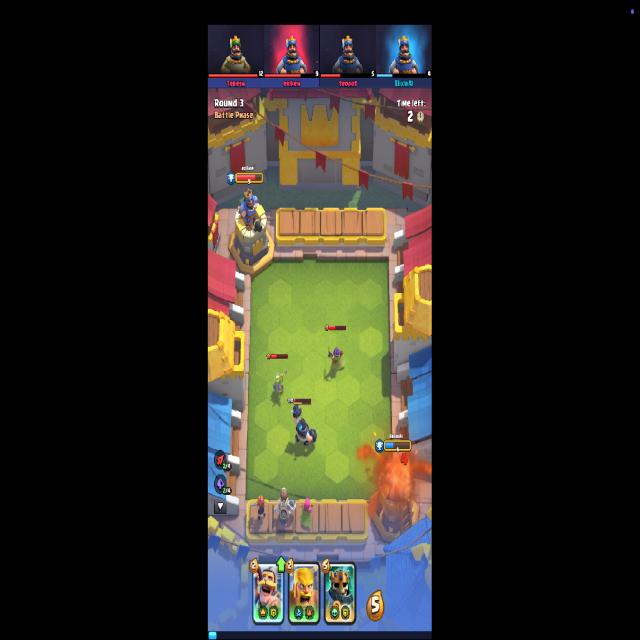archer: (299, 498, 315, 528)
archer_queen: (326, 346, 344, 370)
card_barbarian: (288, 561, 320, 626)
card_knight: (252, 563, 284, 623)
card_skeleton_king: (324, 561, 356, 625)
giant_skeleton: (274, 488, 296, 526)
mega_knight: (292, 403, 318, 448)
spear_goblin: (272, 370, 288, 394)
valkyrie: (250, 495, 268, 521)
